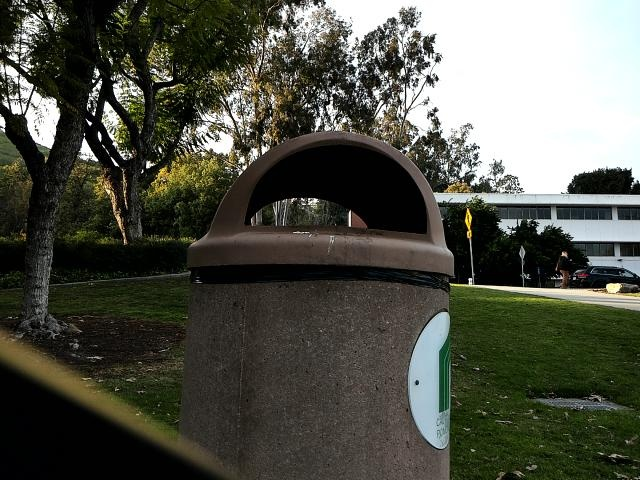trashcan: (169, 121, 469, 480)
